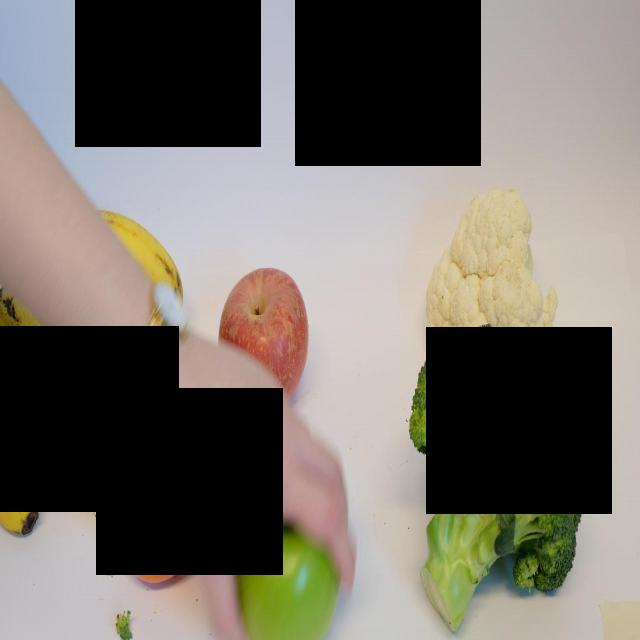apple: (210, 244, 312, 391), (237, 519, 346, 631)
banana: (0, 284, 90, 413), (22, 368, 106, 502)
broccoli: (405, 335, 583, 639)
cauliflower: (405, 172, 566, 368)
tomato: (116, 445, 188, 589)
